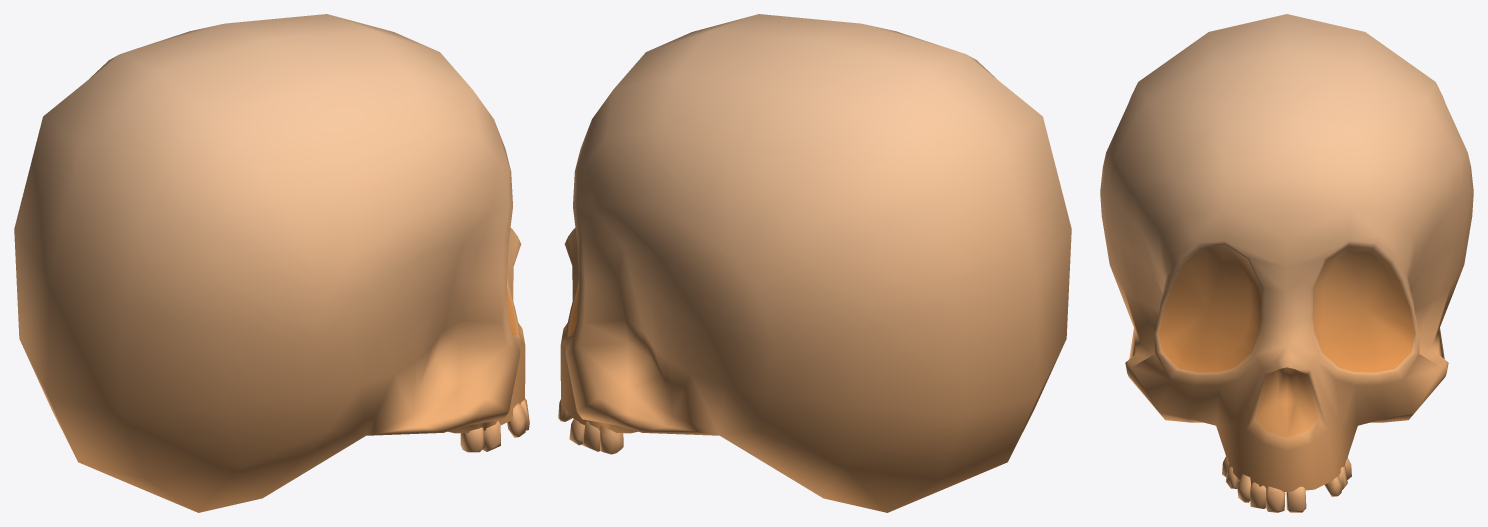
File: Skull.fbx
3 views of the same model, side by side, from view 1: azimuth 30°, elevation 25°; view 2: azimuth 150°, elevation 25°; view 3: azimuth 270°, elevation 25° (orthographic). The views are drawn at different scales.
Parts seen in each view (by area): view 1: Skull.001; view 2: Skull.001; view 3: Skull.001.
Part boxes in pixels (bbox=[...]): Skull.001: bbox=[14, 14, 529, 512]; Skull.001: bbox=[558, 14, 1071, 512]; Skull.001: bbox=[1100, 14, 1473, 512].
Size of the model in its own units: 0.2097 by 0.1849 by 0.1737.
